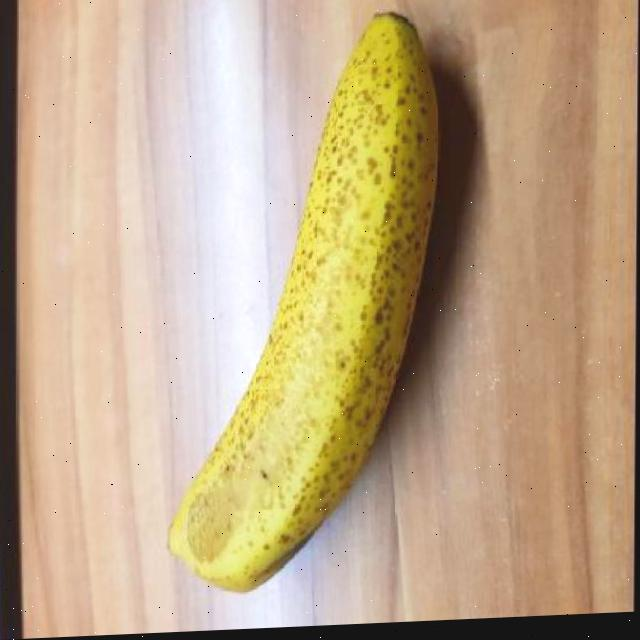banana: (162, 4, 447, 607)
